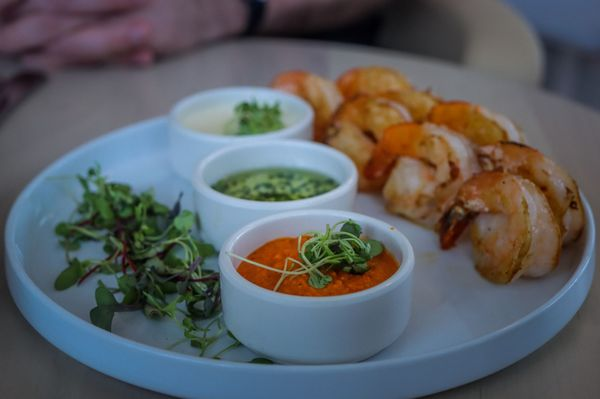sushi: (3, 105, 588, 396), (218, 207, 416, 366), (191, 139, 360, 250), (168, 86, 314, 186)
